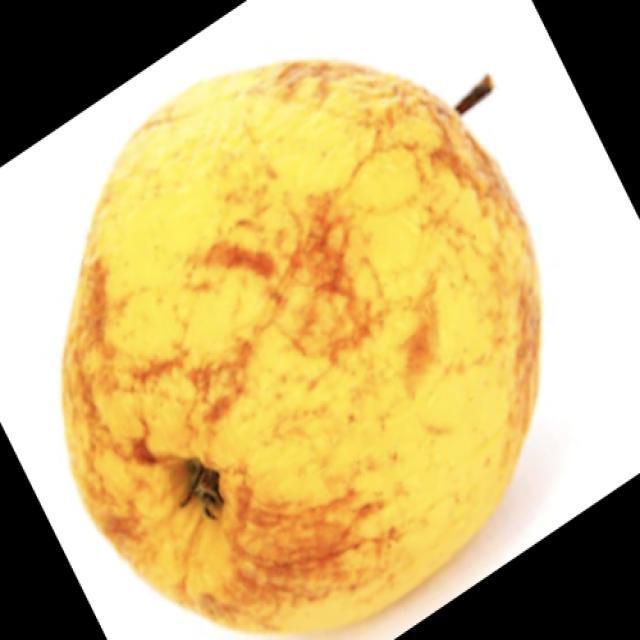Rotten: (101, 70, 546, 628)
